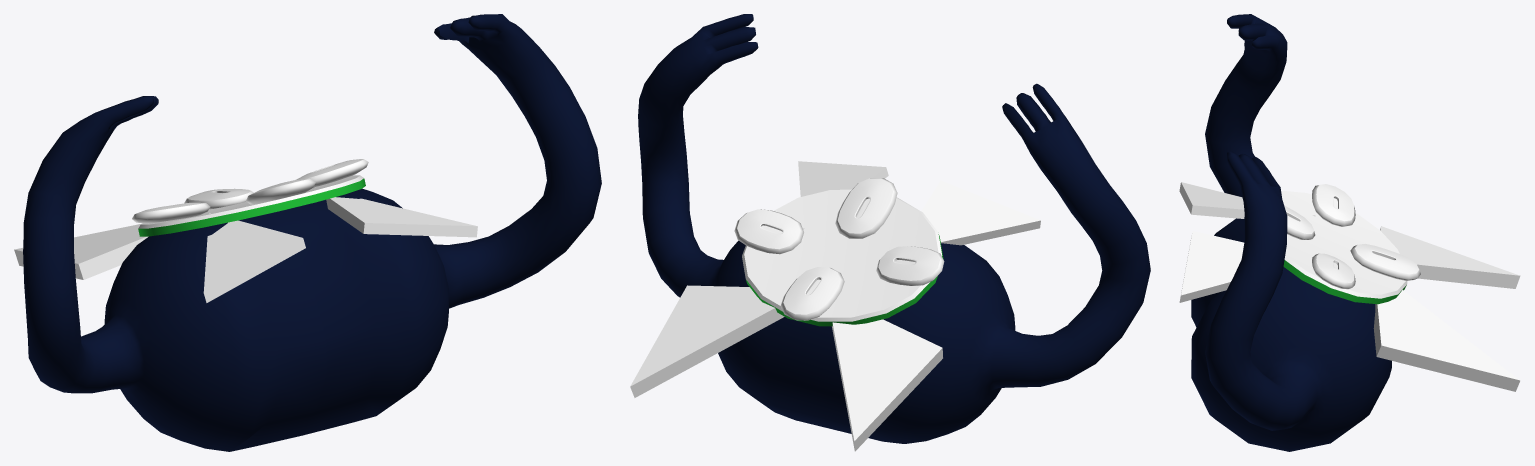
The model's file is BlueMonRetopo.FBX.
The picture shows the model from 3 angles, left to right: view 1: azimuth 30°, elevation 25°; view 2: azimuth 150°, elevation 25°; view 3: azimuth 270°, elevation 25°; orthographic projection. The views are drawn at different scales.
Visible parts, largest first — view 1: Body; view 2: Body; view 3: Body.
Part boxes in pixels (bbox=[...]): Body: bbox=[14, 14, 601, 451]; Body: bbox=[630, 14, 1150, 451]; Body: bbox=[1179, 14, 1520, 451].
Bounding box in the file's own units: 1399 × 933 × 856.
